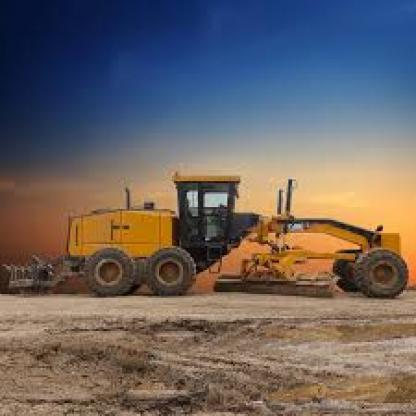bull_dozer/loader/grader: (46, 159, 405, 329)
